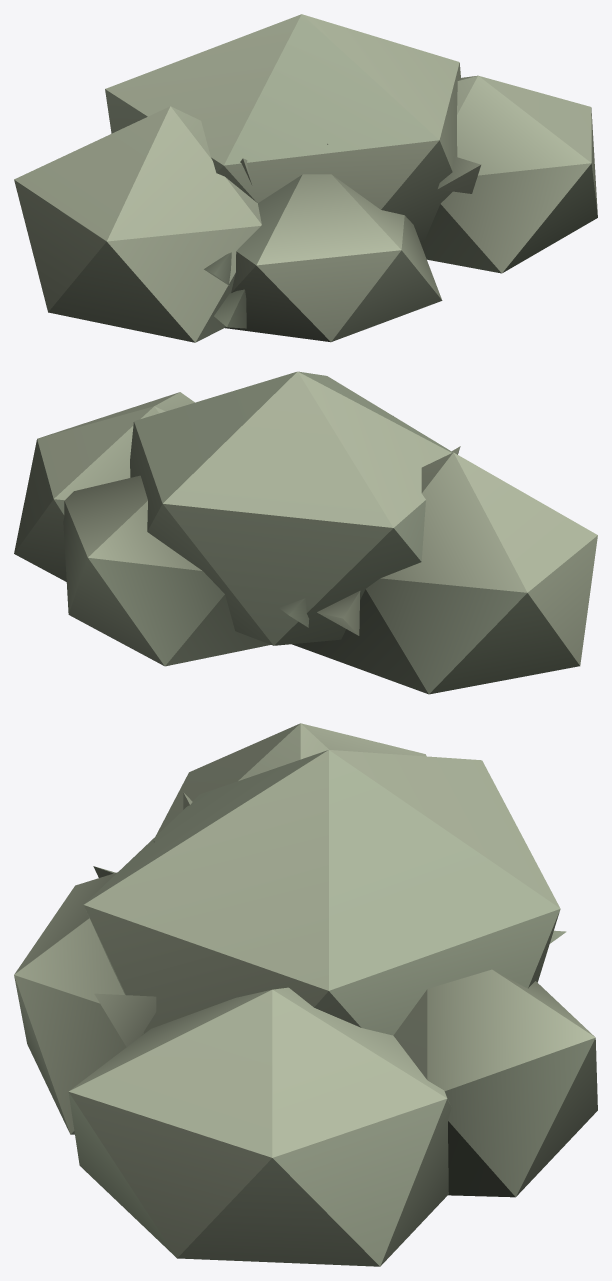
The model's file is bush.lod1.glb.
3 views of the same model, one above another, from view 1: azimuth 30°, elevation 25°; view 2: azimuth 150°, elevation 25°; view 3: azimuth 270°, elevation 25° (orthographic). The views are drawn at different scales.
Size of the model in its own units: 3.22 by 1.36 by 2.07.
